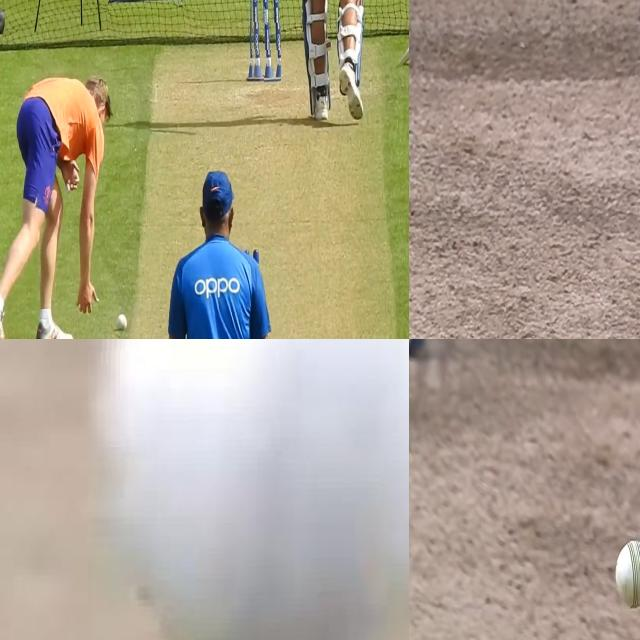Cricket ball: (88, 339, 409, 640), (614, 536, 640, 609), (114, 311, 130, 335)
Stumps: (247, 0, 281, 83)
